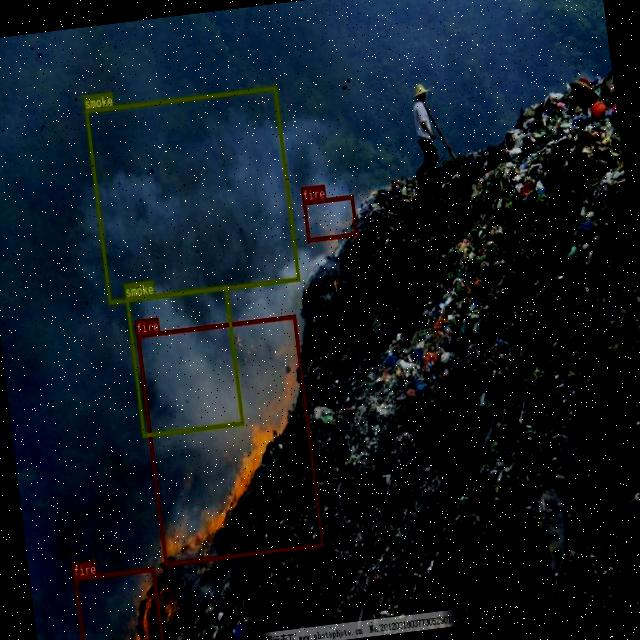fire: (136, 313, 323, 565), (72, 566, 165, 640), (302, 194, 357, 240)
smoke: (84, 85, 299, 303), (124, 284, 243, 437)
